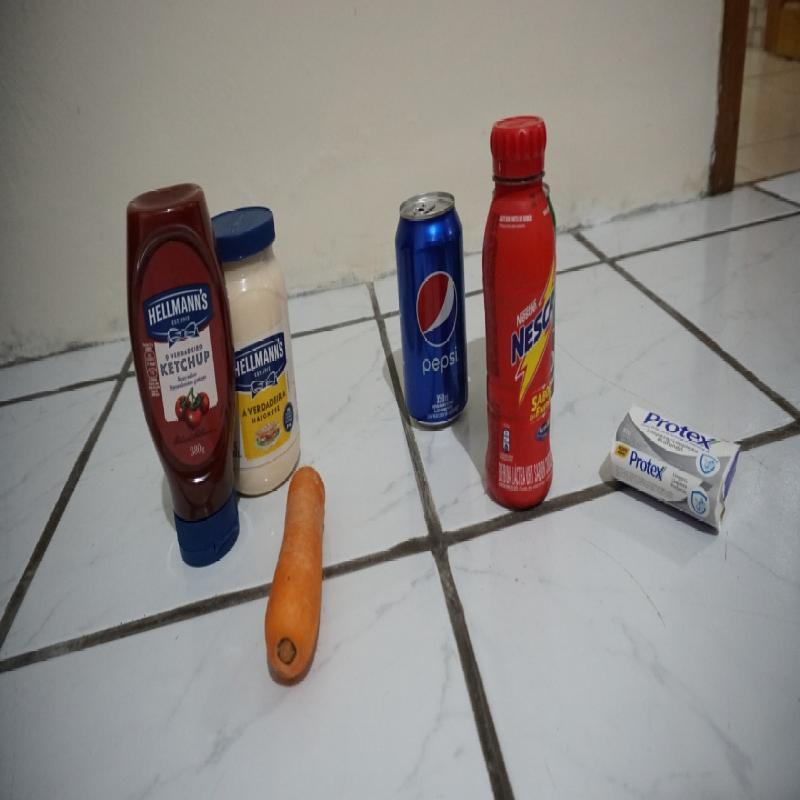Carrot: (266, 469, 326, 672)
Chocolate Milk: (483, 115, 555, 503)
Ketchup: (134, 191, 240, 556)
Mayonnaise: (227, 199, 298, 484)
Soap: (612, 406, 740, 534)
Soda can: (393, 196, 470, 422)
